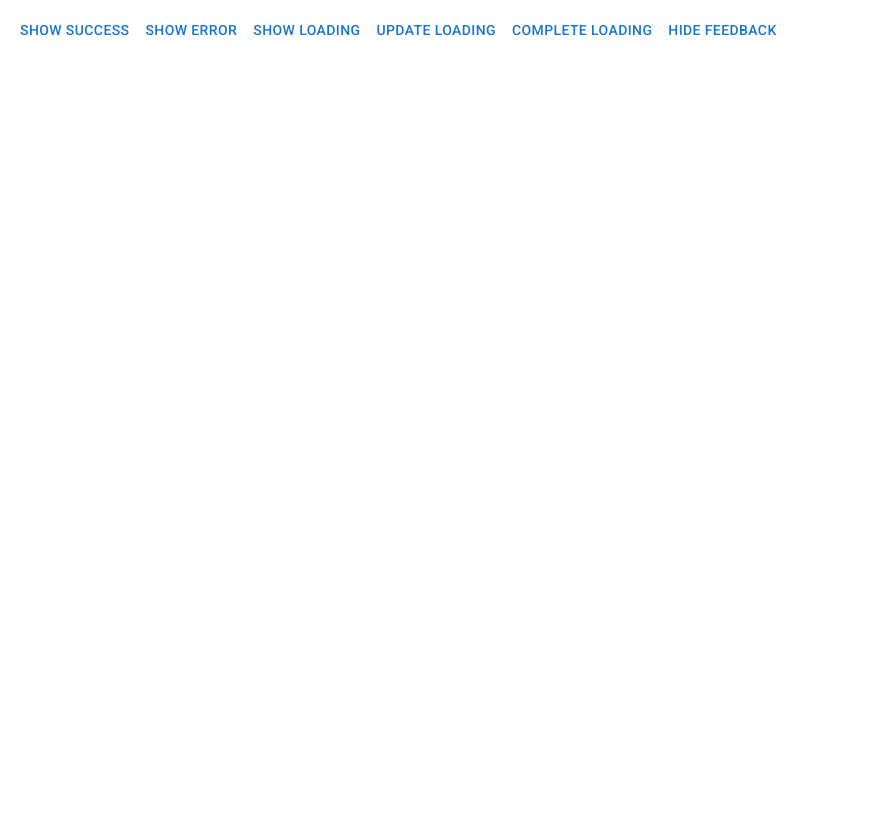
it: ActionFeedbackContext › should show loading feedback
This screenshot has width=874, height=815.
Note: Click the show loading button
What coordinates should you click on to do the following:
click the button with test id "show-loading"
I would click on:
 (307, 30)
Its box is [245,12,368,48].
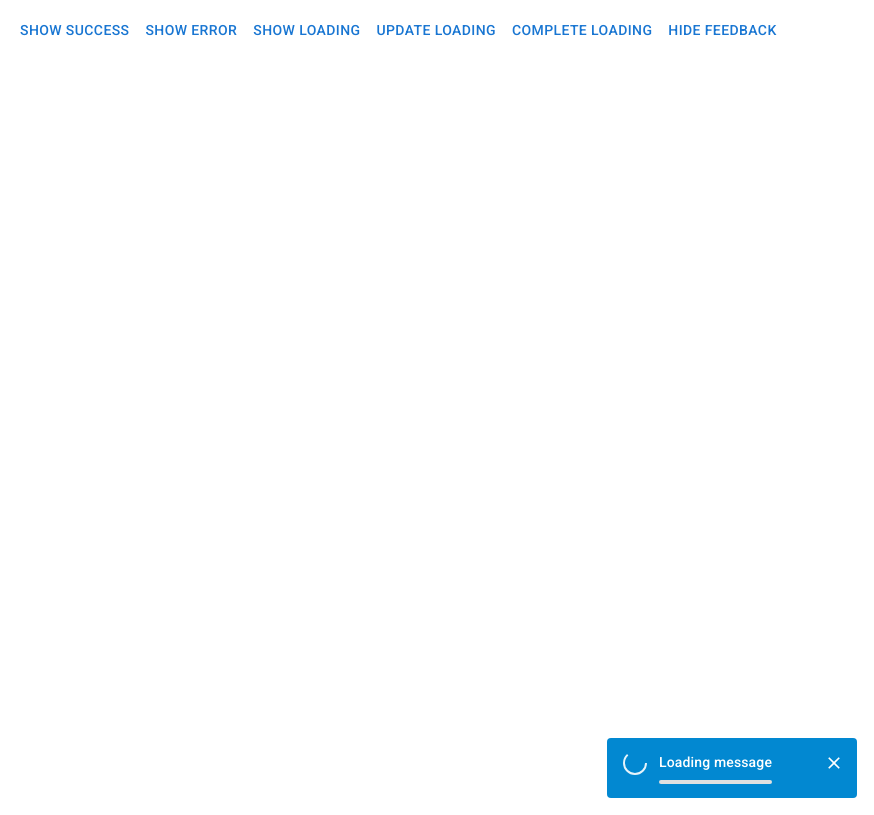
Result: the text "Loading message" is shown at [659,752,772,784]
